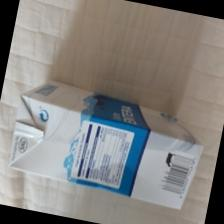Kertas: (10, 81, 202, 208)
